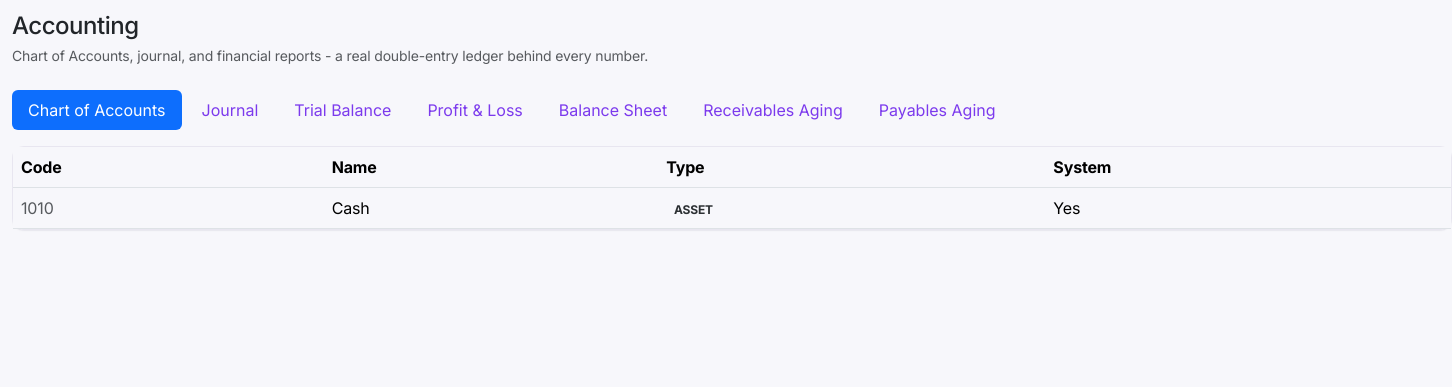
Test: switching tabs after the Chart of Accounts has loaded (the real user sequence) › Profit & Loss: no render exception, and it shows its own content once its response arrives
Expected: the text "Cash" is shown, [324, 187, 658, 228]
Click the button "Profit & Loss" at (475, 110), box [411, 90, 539, 130]
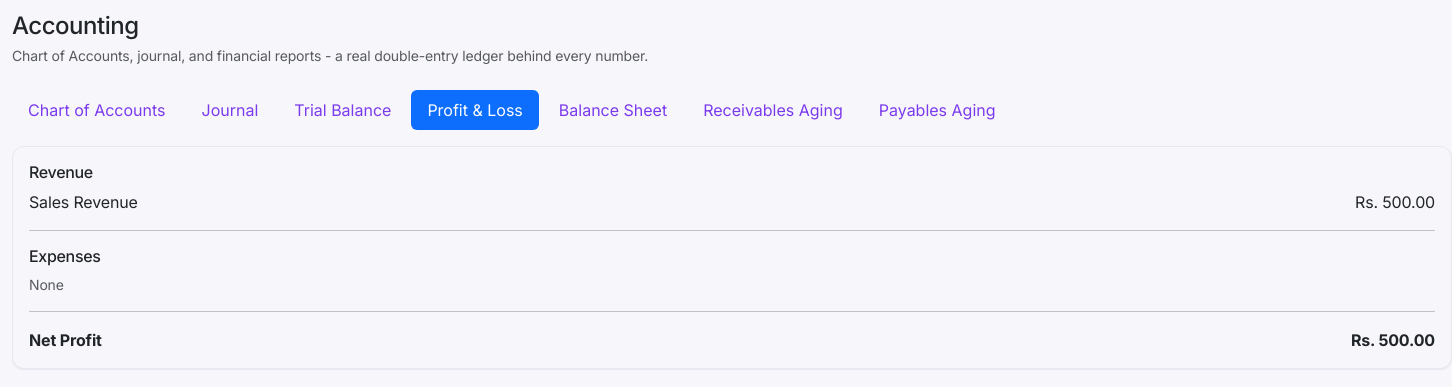
Now the text "Sales Revenue" is shown, box [29, 190, 138, 214]
